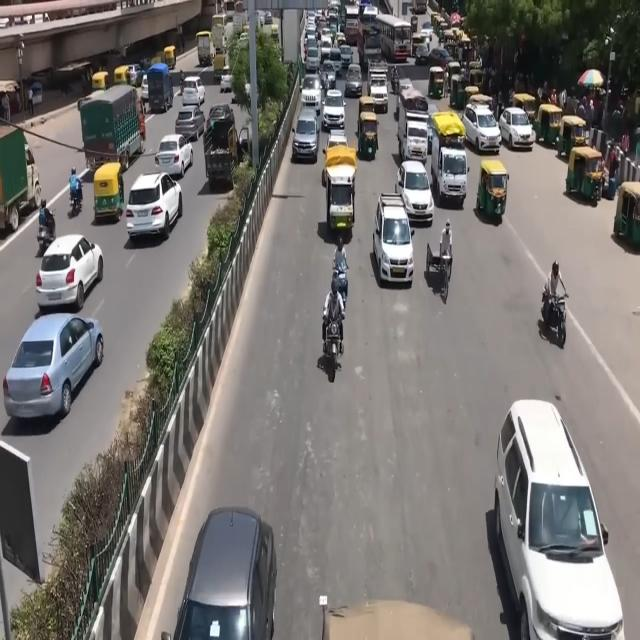auto: (566, 144, 606, 202), (476, 158, 509, 220), (93, 162, 125, 222), (613, 181, 640, 248), (557, 114, 587, 160), (533, 102, 563, 147), (358, 111, 378, 160), (511, 92, 538, 125), (449, 71, 469, 110), (428, 66, 447, 102), (463, 84, 482, 116), (430, 12, 448, 39), (411, 31, 428, 59), (468, 61, 483, 91), (443, 28, 460, 54), (212, 52, 226, 82), (163, 44, 177, 70)
bike-auto: (426, 238, 453, 301), (542, 285, 568, 348), (322, 279, 345, 350), (332, 236, 349, 296), (36, 205, 56, 254), (439, 221, 453, 275), (69, 167, 82, 206), (27, 87, 34, 116)
